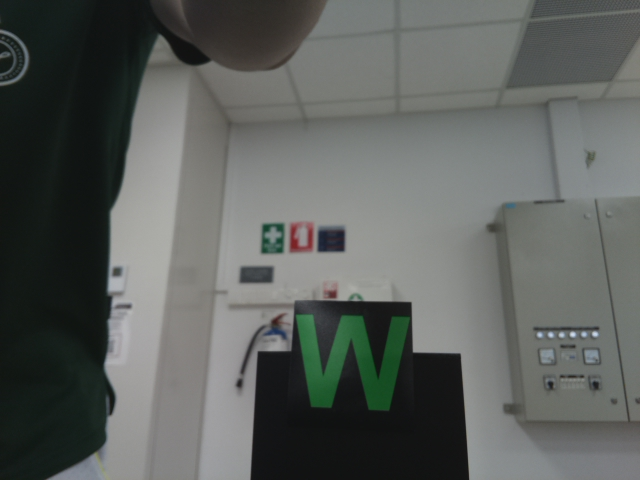w: (292, 308, 411, 421)
